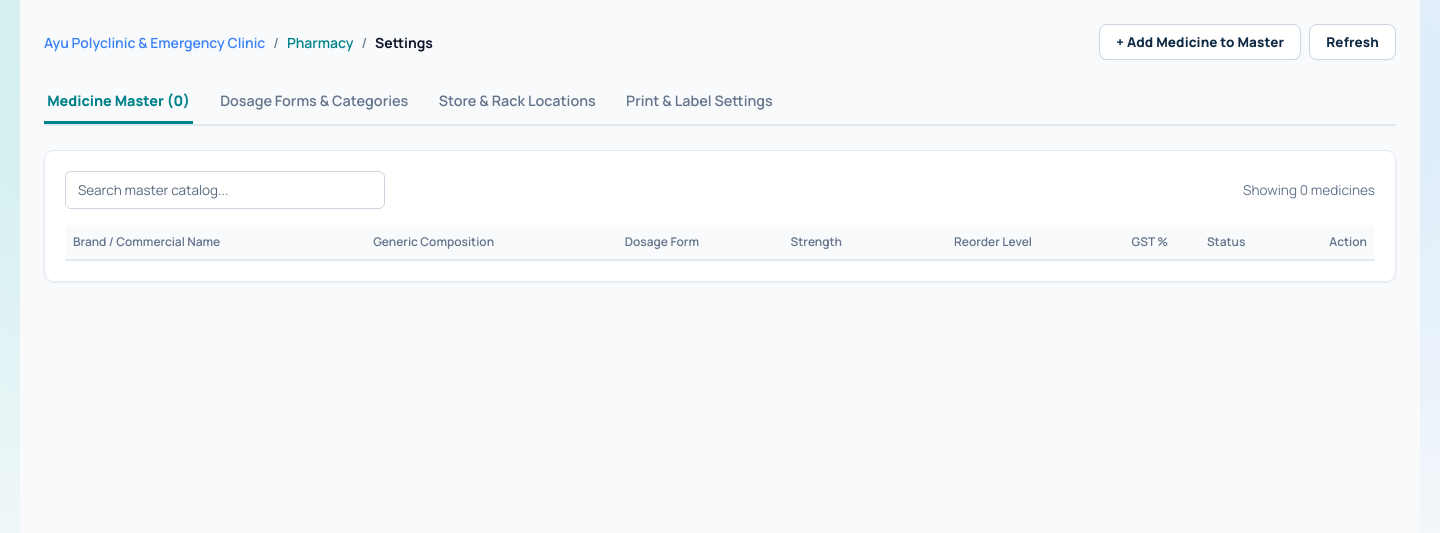
Test: Pharmacy Settings › lists store & rack locations from the shared configuration
Click the button "Store & Rack Locations" at (517, 102), box [436,80,599,124]
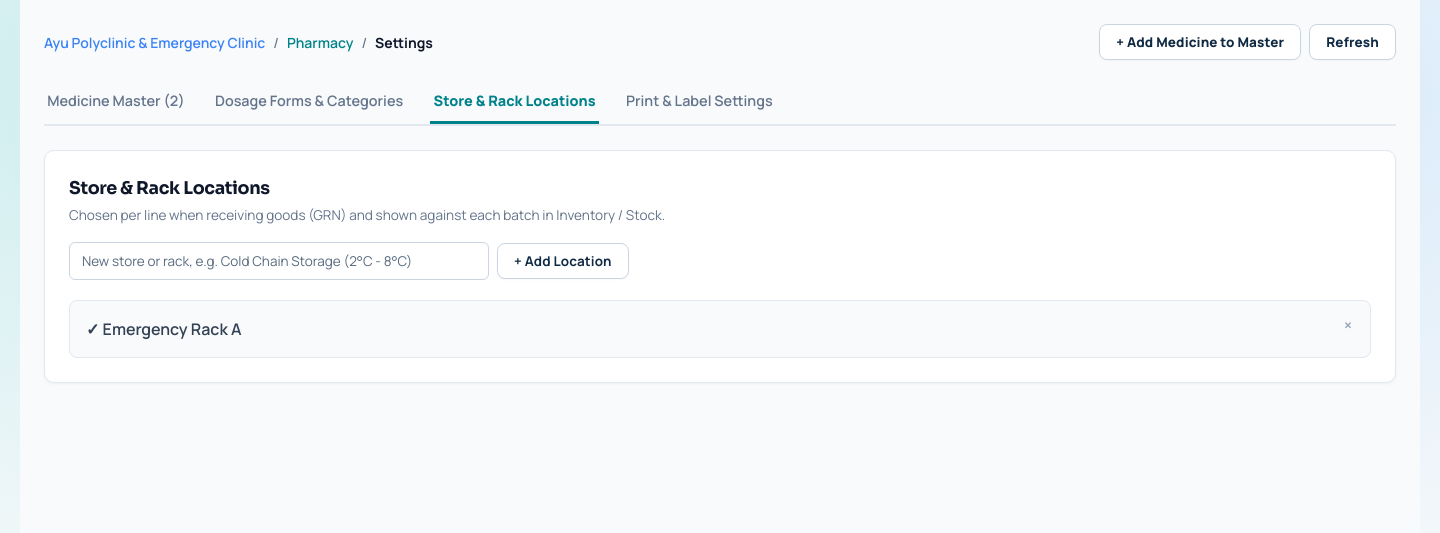
Check: the text "✓ Emergency Rack A" is shown, box [86,317,242,341]
Check: the button "+ Add Location" is shown, box [497,243,629,279]
